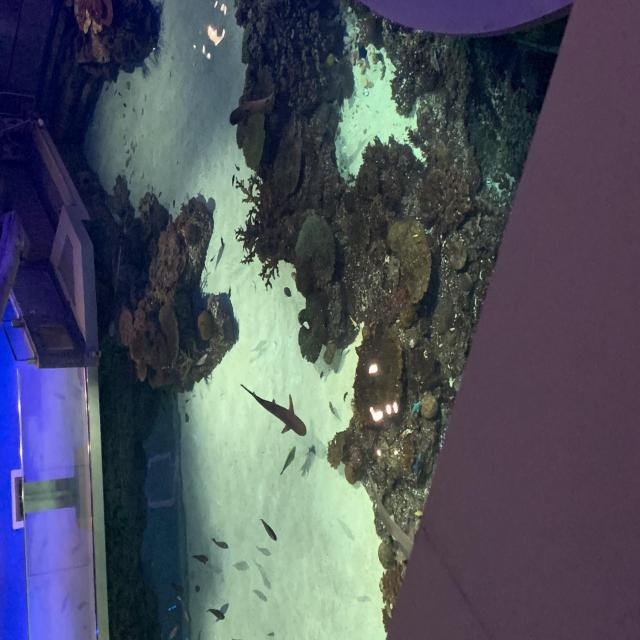fish: (280, 444, 299, 476), (261, 516, 278, 542), (206, 605, 228, 624), (190, 550, 211, 567), (210, 537, 229, 551)
shark: (240, 382, 308, 438)
